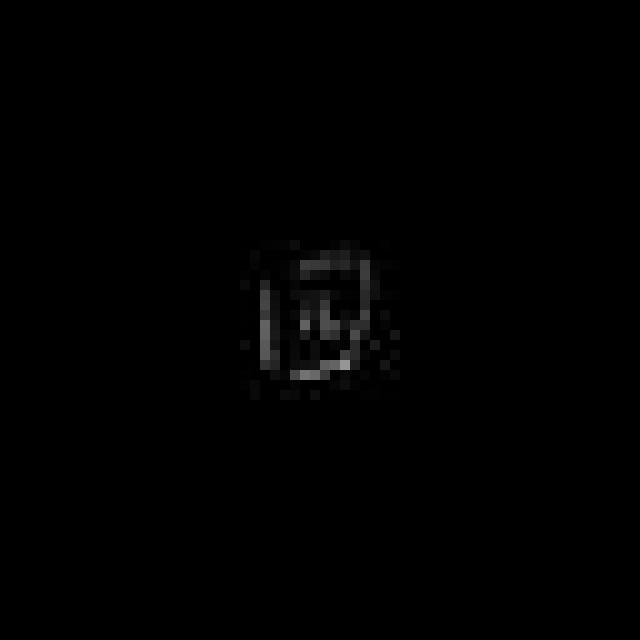4 -four-: (241, 243, 387, 393)
